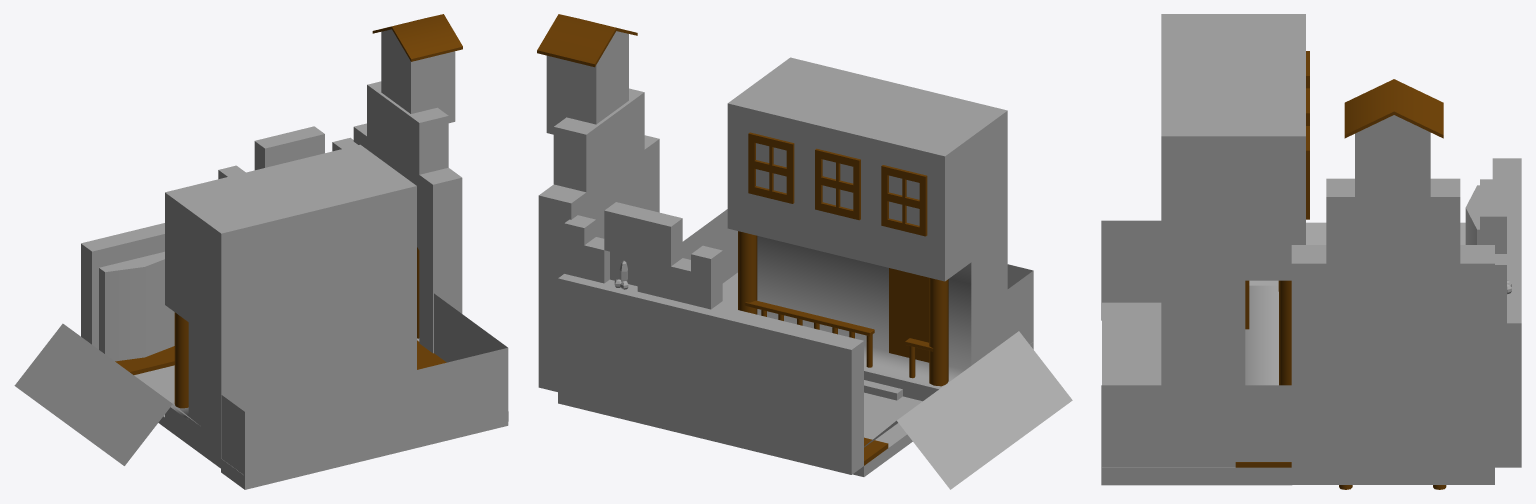
The picture shows the model from 3 angles, left to right: view 1: azimuth 30°, elevation 25°; view 2: azimuth 150°, elevation 25°; view 3: azimuth 270°, elevation 25°; orthographic projection. The views are drawn at different scales.
Visible parts, largest first — view 1: pCube9, pPlane1, pCube5, pCube4, pCube6, pCube34, pCube37, Floor, pCube11; view 2: pCube9, pCube5, pCube4, pCube6, pCube34, pPlane1, pCube28, Floor, pCube37, pCube11, pCube25, pCube27 (+3 smaller); view 3: pCube4, pCube9, pPlane1, pCube5, pCube34, Floor, pCube37, pCube10, pCube6.
Part boxes in pixels (x1,y1,x2,y2): pCube9: (165,144,416,458); pPlane1: (221,293,508,489); pCube5: (81,126,446,374); pCube4: (353,81,462,353); pCube6: (14,323,198,465); pCube34: (381,29,455,123); pCube37: (372,14,462,61); Floor: (134,365,508,485); pCube11: (174,312,188,408); pCube9: (727,57,1007,401); pCube5: (558,202,888,474); pCube4: (538,88,659,391); pCube6: (864,331,1072,489); pCube34: (546,31,628,134); pPlane1: (682,209,1033,344); pCube28: (889,268,929,362); Floor: (718,272,1033,476); pCube37: (537,14,637,67); pCube11: (929,278,948,386); pCube25: (748,132,794,203); pCube27: (881,165,927,236); pCube4: (1291,178,1494,484); pCube9: (1161,14,1305,385); pPlane1: (1101,220,1291,485); pCube5: (1235,158,1521,467); pCube34: (1355,115,1430,231); Floor: (1102,302,1291,480); pCube37: (1344,79,1443,138); pCube10: (1279,280,1291,385); pCube6: (1249,222,1465,285).
Size of the model in its own units: 39.98 by 30.89 by 29.04.
